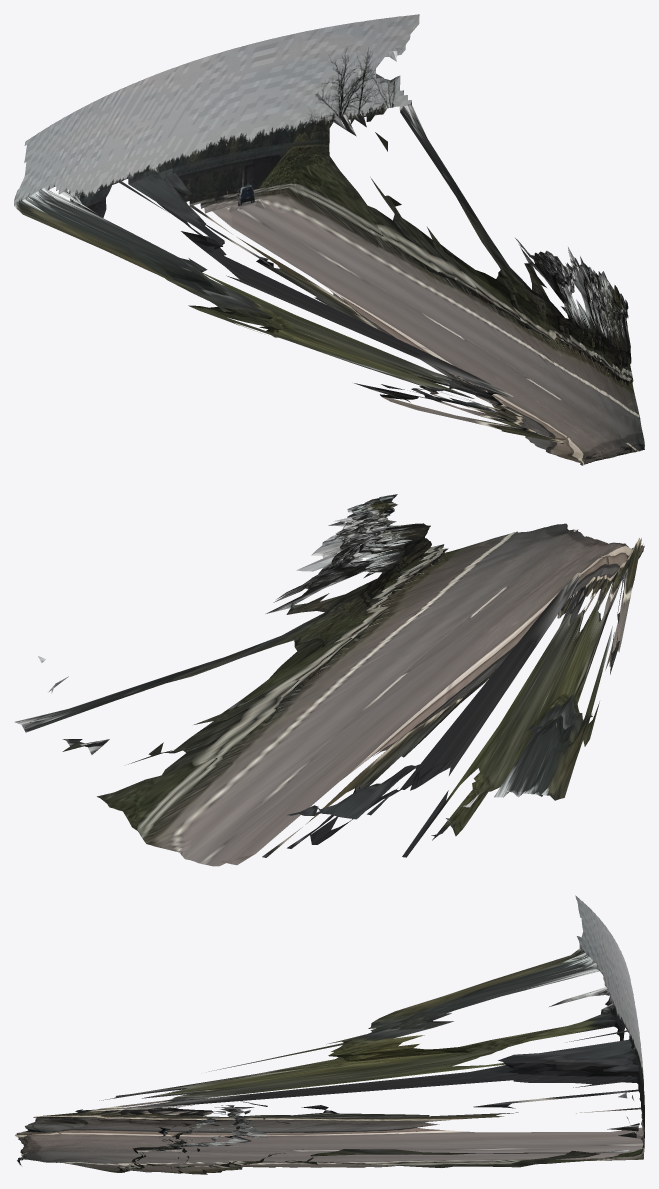
The picture shows the model from 3 angles, top to bottom: view 1: azimuth 30°, elevation 25°; view 2: azimuth 150°, elevation 25°; view 3: azimuth 270°, elevation 25°; orthographic projection. The views are drawn at different scales.
Visible parts, largest first — view 1: defaultobject; view 2: defaultobject; view 3: defaultobject.
Part boxes in pixels (x1,y1,x2,y2): defaultobject: [14, 14, 644, 465]; defaultobject: [15, 494, 644, 866]; defaultobject: [15, 895, 644, 1174].
Bounding box in the file's own units: 31.04 × 11.71 × 44.71.
1 material, 1 textured.
